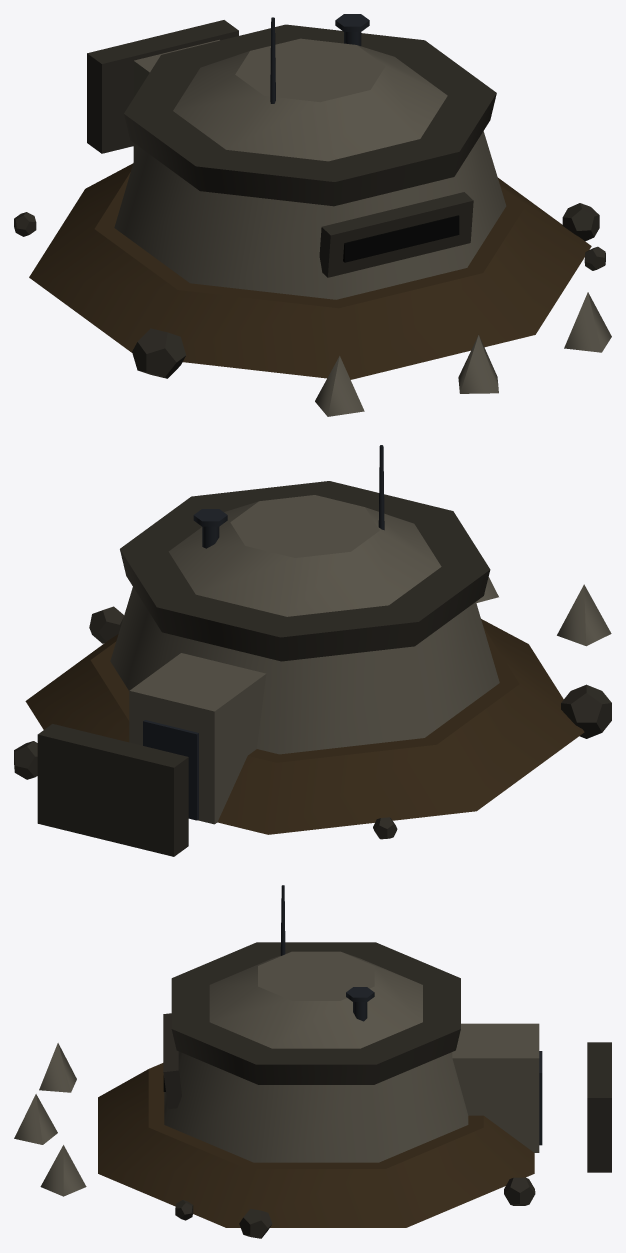
The model's file is concrete-bunker.obj.
3 renders of one model, top to bottom at view 1: azimuth 30°, elevation 25°; view 2: azimuth 150°, elevation 25°; view 3: azimuth 270°, elevation 25°, orthographic. The views are drawn at different scales.
Visible parts, largest first — view 1: berm, hull, roof_slab, roof_cap, blast_wall, slit_surround, slit, rubble_2, dragons_tooth_2, dragons_tooth_0, dragons_tooth_1, rubble_1 (+1 smaller); view 2: berm, hull, roof_slab, roof_cap, blast_wall, entry_corridor, door, rubble_2, dragons_tooth_2, rubble_1, rubble_4; view 3: berm, hull, roof_slab, roof_cap, entry_corridor, blast_wall, slit_surround, dragons_tooth_0, dragons_tooth_1, dragons_tooth_2, rubble_4, rubble_1.
Boxes of the visible parts, x1,y1,x2,y2 form: berm: [29, 163, 591, 379]; hull: [114, 131, 506, 299]; roof_slab: [124, 24, 496, 206]; roof_cap: [173, 38, 447, 161]; blast_wall: [87, 20, 238, 153]; slit_surround: [319, 192, 473, 277]; slit: [343, 215, 459, 262]; rubble_2: [132, 328, 186, 378]; dragons_tooth_2: [315, 356, 364, 416]; dragons_tooth_0: [564, 292, 611, 352]; dragons_tooth_1: [458, 335, 498, 393]; rubble_1: [562, 203, 599, 241]; berm: [25, 619, 584, 834]; hull: [110, 587, 499, 754]; roof_slab: [120, 481, 490, 661]; roof_cap: [168, 495, 441, 616]; blast_wall: [37, 724, 188, 856]; entry_corridor: [129, 653, 266, 824]; door: [143, 720, 198, 820]; rubble_2: [561, 684, 611, 738]; dragons_tooth_2: [557, 584, 611, 646]; rubble_1: [89, 606, 123, 643]; rubble_4: [14, 741, 37, 779]; berm: [98, 1063, 534, 1227]; hull: [164, 1051, 468, 1162]; roof_slab: [171, 942, 460, 1084]; roof_cap: [209, 951, 422, 1048]; entry_corridor: [452, 1023, 539, 1152]; blast_wall: [587, 1042, 611, 1172]; slit_surround: [163, 1013, 181, 1109]; dragons_tooth_0: [40, 1145, 86, 1196]; dragons_tooth_1: [14, 1094, 57, 1144]; dragons_tooth_2: [39, 1043, 76, 1092]; rubble_4: [504, 1177, 535, 1205]; rubble_1: [239, 1209, 272, 1238].
Size of the model in its own units: 8.5 by 4.78 by 10.88.
